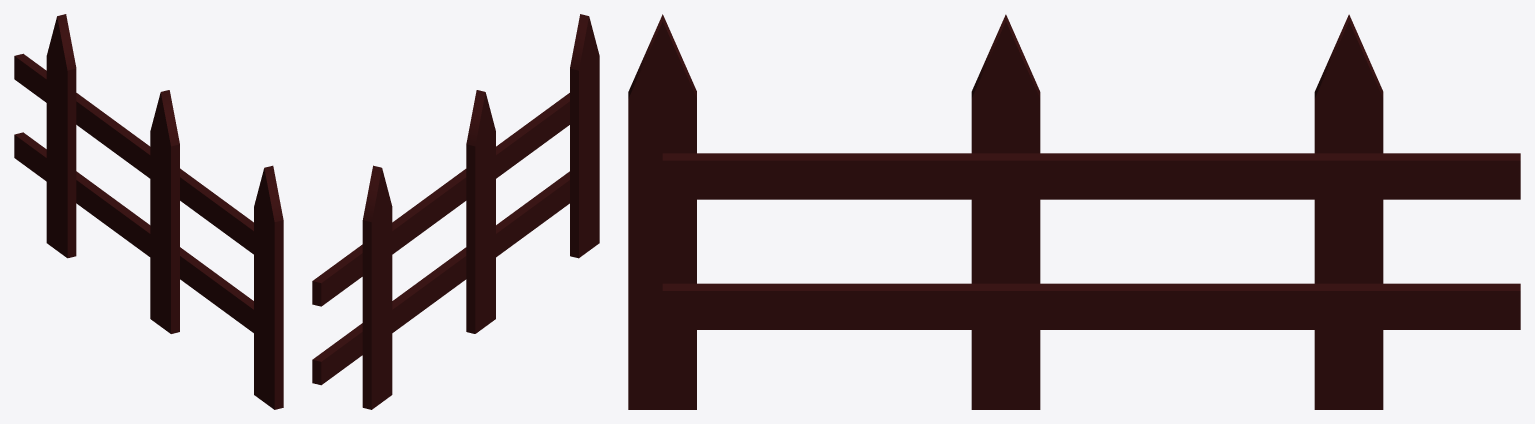
File: fence_end_1.fbx
The picture shows the model from 3 angles, left to right: view 1: azimuth 30°, elevation 25°; view 2: azimuth 150°, elevation 25°; view 3: azimuth 270°, elevation 25°; orthographic projection. The views are drawn at different scales.
Visible parts, largest first — view 1: Box002; view 2: Box002; view 3: Box002.
Boxes of the visible parts, x1,y1,x2,y2 form: Box002: (14, 14, 283, 409); Box002: (312, 14, 599, 409); Box002: (628, 14, 1520, 409).
Bounding box in the file's own units: 4 × 50 × 104.
